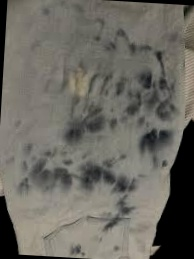ink: (111, 37, 181, 128), (18, 143, 73, 195), (81, 159, 138, 196), (63, 98, 107, 142), (104, 195, 135, 233), (140, 128, 173, 158), (70, 243, 85, 255)
